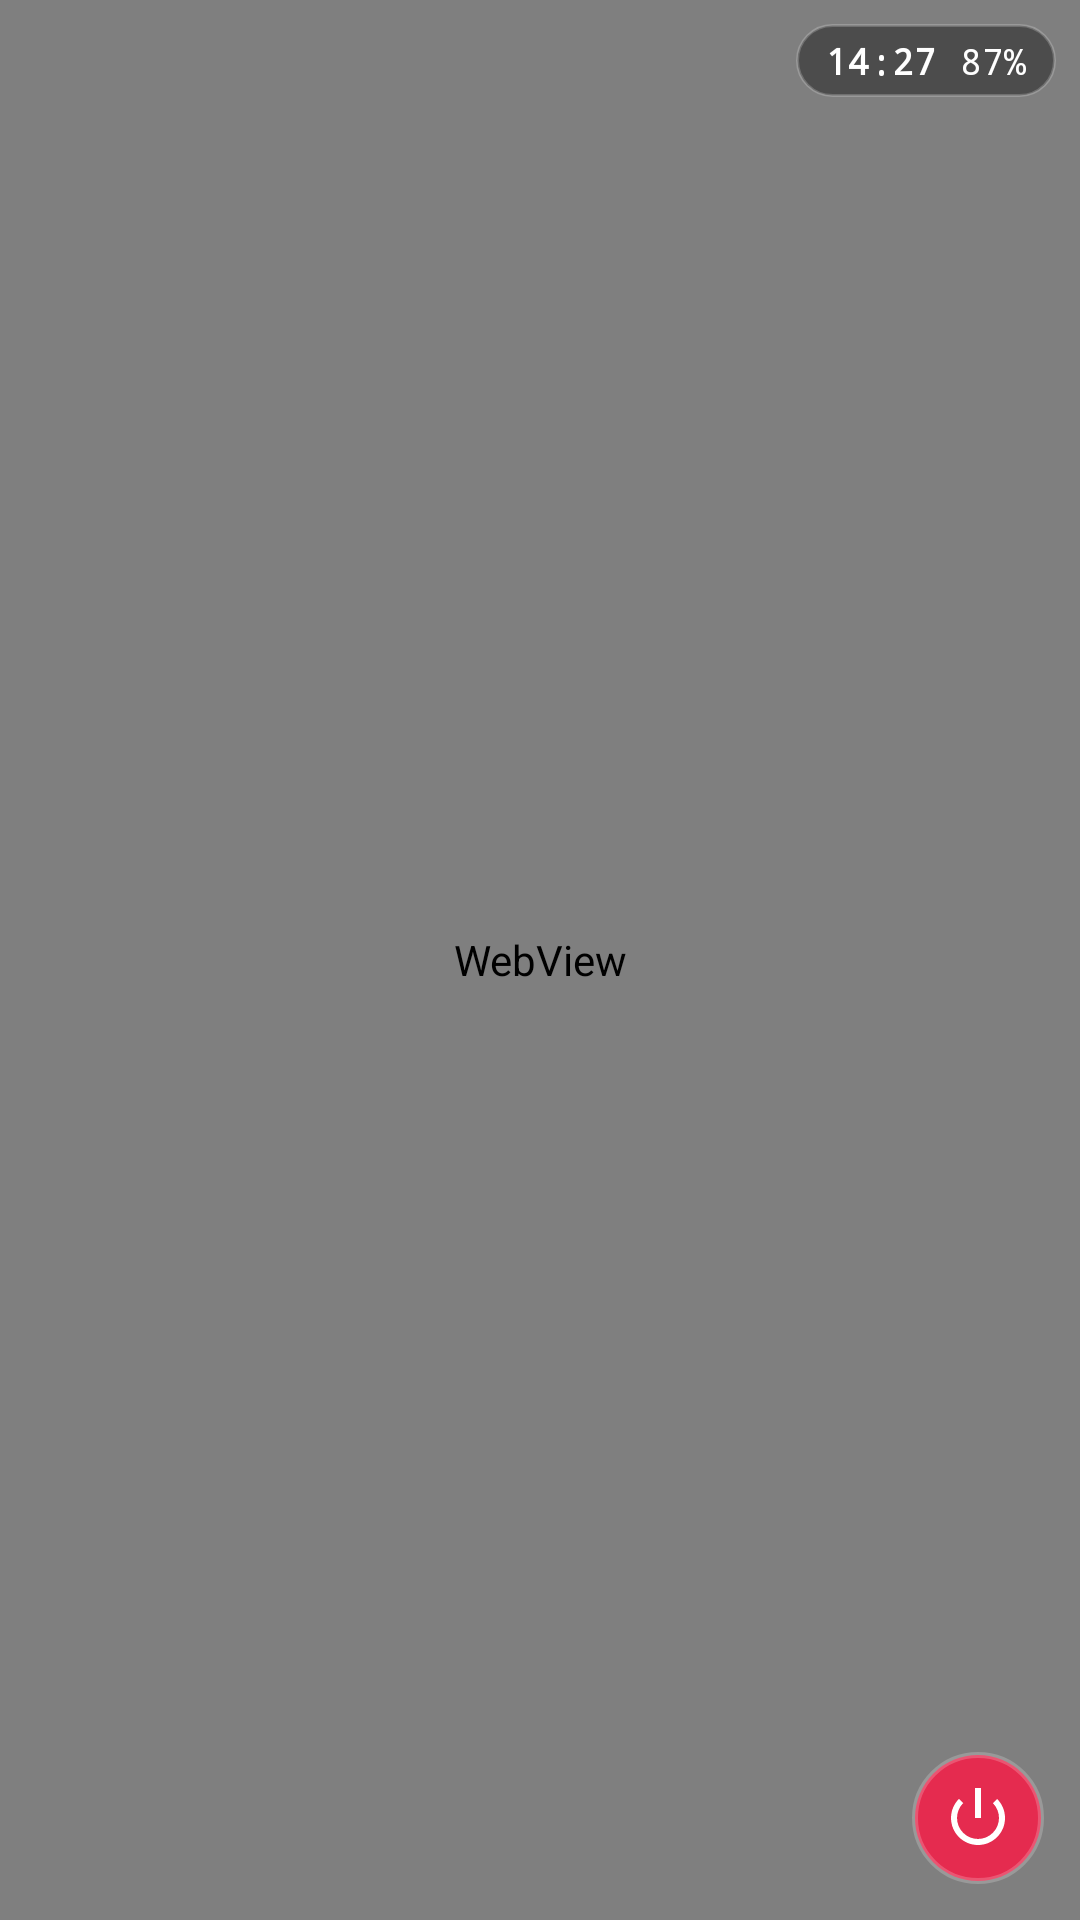

Locate icon controls on the screen. Image size 1080*1920, boxes as bbox=(x1, y1, x2, y2).
Matikan aplikasi: bbox=(912, 1752, 1044, 1884)
